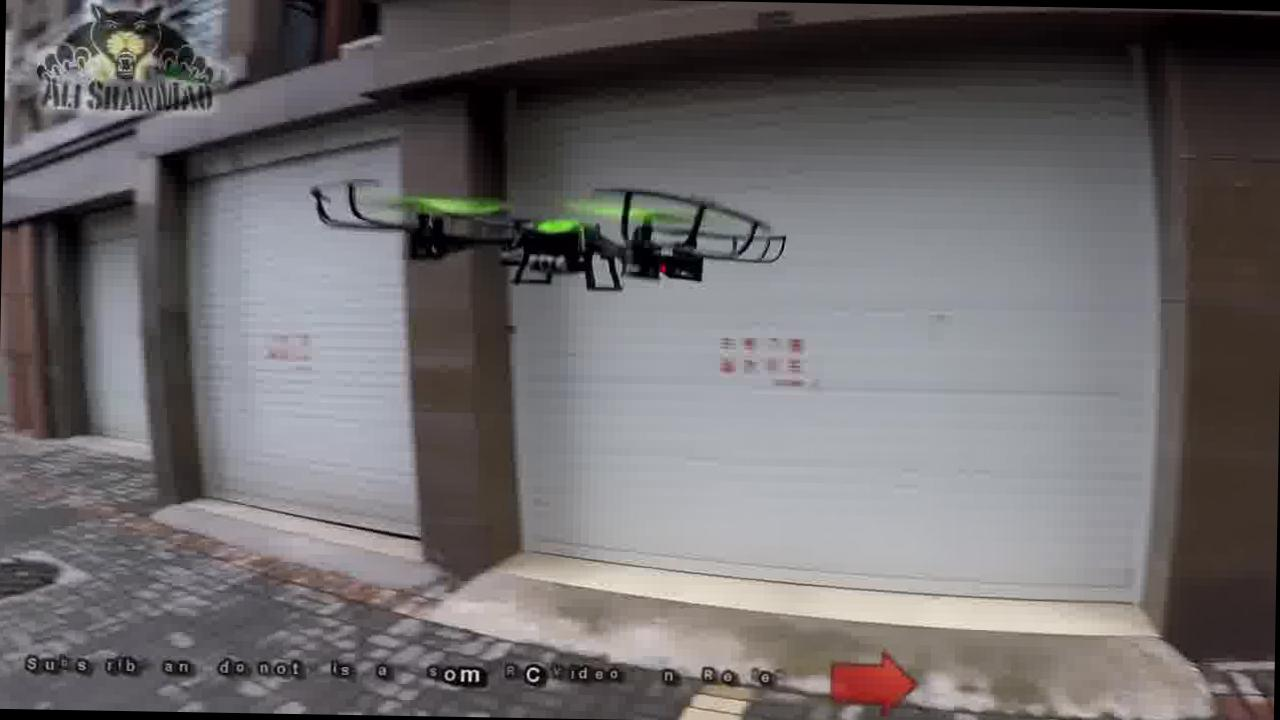drone: (302, 158, 820, 302)
